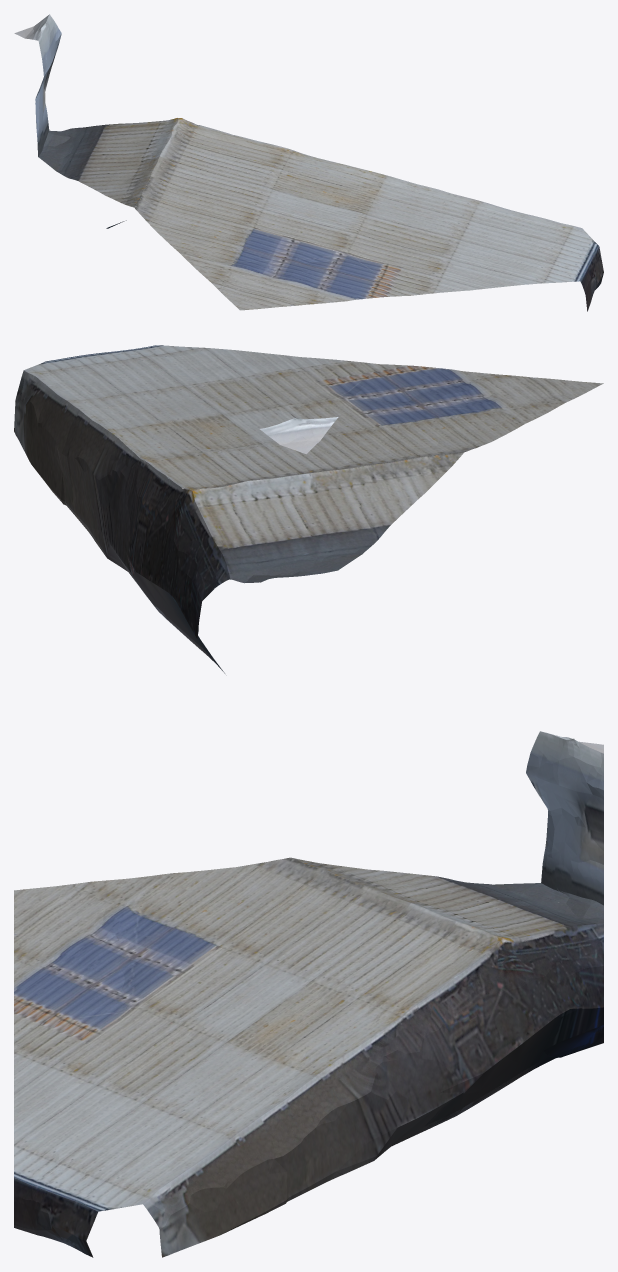
3 renders of one model, top to bottom at view 1: azimuth 30°, elevation 25°; view 2: azimuth 150°, elevation 25°; view 3: azimuth 270°, elevation 25°, orthographic. The views are drawn at different scales.
Bounding box in the file's own units: 8.36 × 4.42 × 8.36.
2 materials, 2 textured.
